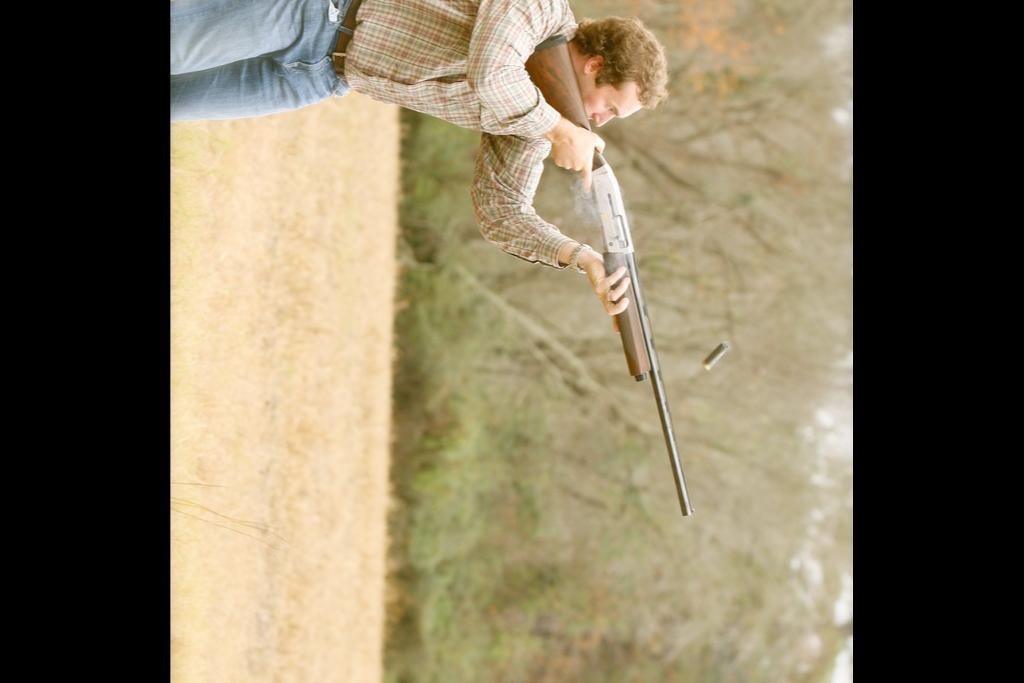gun: (524, 35, 694, 518)
